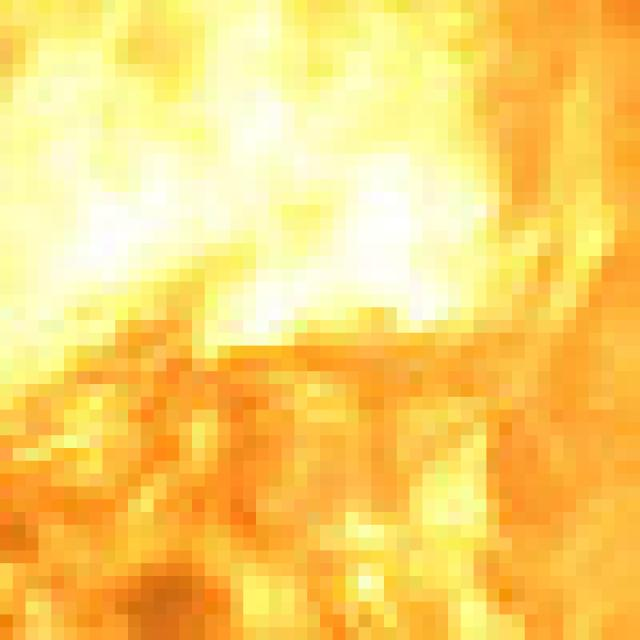fire: (10, 11, 640, 622)
